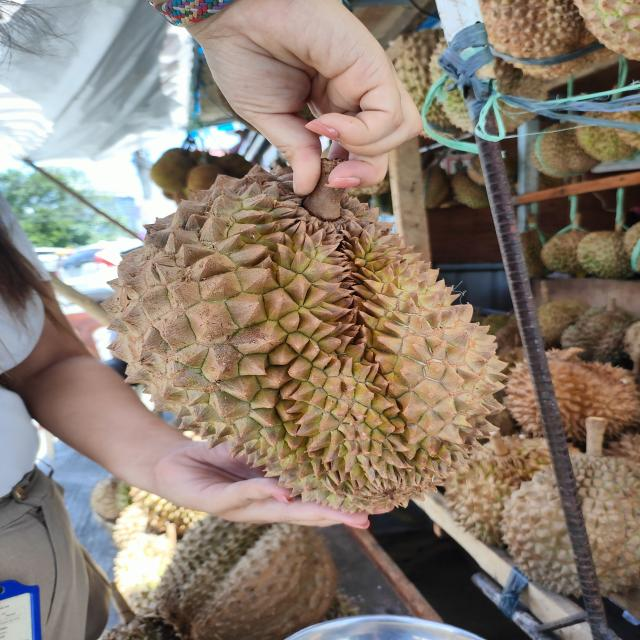mature: (102, 204, 508, 512)
